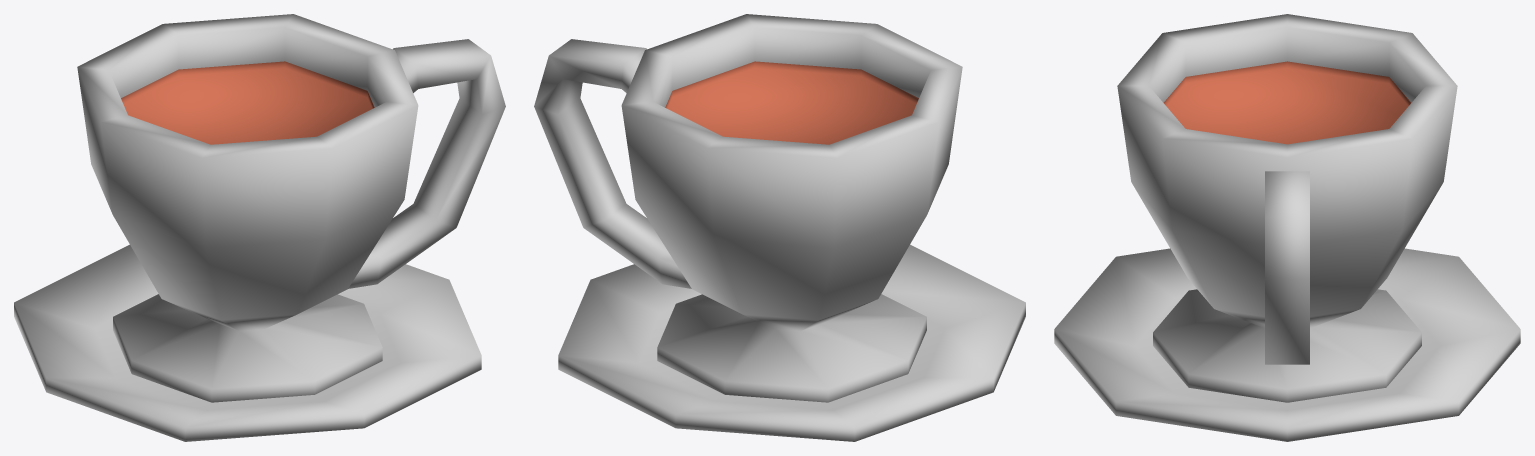
File: PickupTea.dae
3 renders of one model, left to right at view 1: azimuth 30°, elevation 25°; view 2: azimuth 150°, elevation 25°; view 3: azimuth 270°, elevation 25°, orthographic.
Visible parts, largest first — view 1: TeaCupPickup; view 2: TeaCupPickup; view 3: TeaCupPickup.
Part boxes in pixels (box(x1,y1,x2,y2)): TeaCupPickup: box(14, 14, 505, 441); TeaCupPickup: box(534, 14, 1025, 441); TeaCupPickup: box(1054, 14, 1520, 441).
Size of the model in its own units: 0.4695 by 0.4222 by 0.2832.
